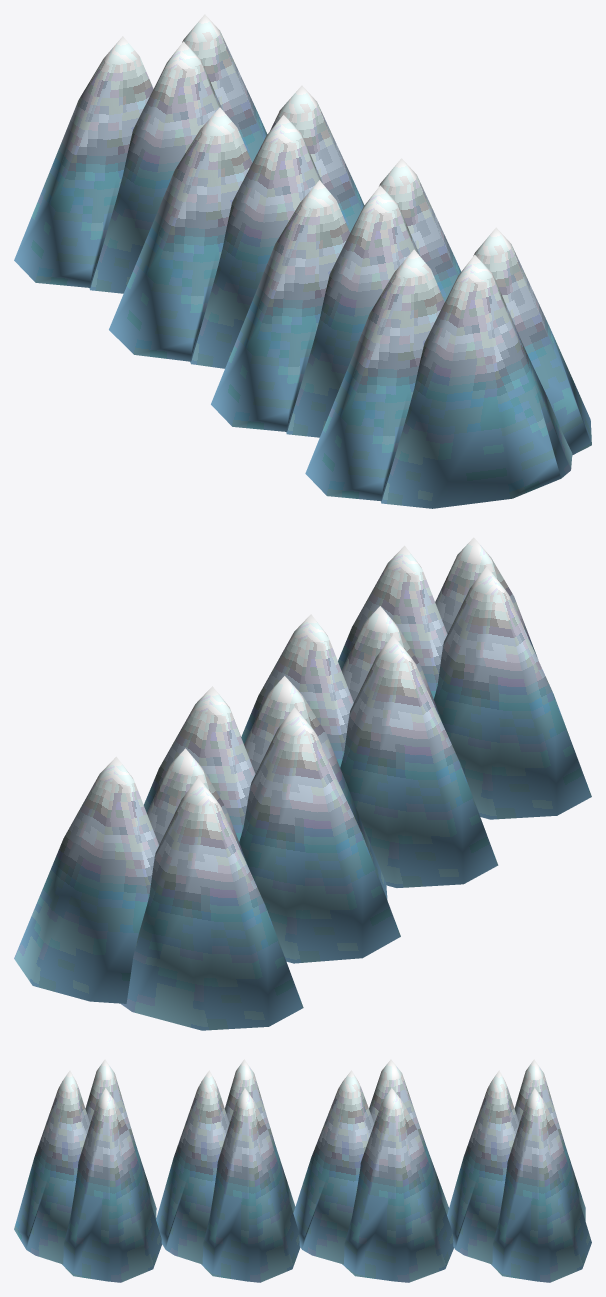
Rendered from Spikes.fbx.
3 views of the same model, one above another, from view 1: azimuth 30°, elevation 25°; view 2: azimuth 150°, elevation 25°; view 3: azimuth 270°, elevation 25° (orthographic). The views are drawn at different scales.
Parts seen in each view (by area): view 1: IceSpikes, IceSpikes.002, IceSpikes.003, IceSpikes.001; view 2: IceSpikes.003, IceSpikes.002, IceSpikes.001, IceSpikes; view 3: IceSpikes.002, IceSpikes, IceSpikes.001, IceSpikes.003.
Part boxes in pixels (x1=…): IceSpikes: x1=305, y1=227, x2=591, y2=508; IceSpikes.002: x1=109, y1=85, x2=364, y2=368; IceSpikes.003: x1=14, y1=14, x2=267, y2=293; IceSpikes.001: x1=211, y1=158, x2=461, y2=437; IceSpikes.003: x1=14, y1=748, x2=303, y2=1030; IceSpikes.002: x1=144, y1=676, x2=400, y2=963; IceSpikes.001: x1=241, y1=606, x2=498, y2=887; IceSpikes: x1=338, y1=537, x2=591, y2=819; IceSpikes.002: x1=293, y1=1059, x2=453, y2=1282; IceSpikes: x1=14, y1=1059, x2=162, y2=1282; IceSpikes.001: x1=156, y1=1059, x2=300, y2=1282; IceSpikes.003: x1=447, y1=1059, x2=591, y2=1282.
Size of the model in its own units: 102 by 83.08 by 252.
